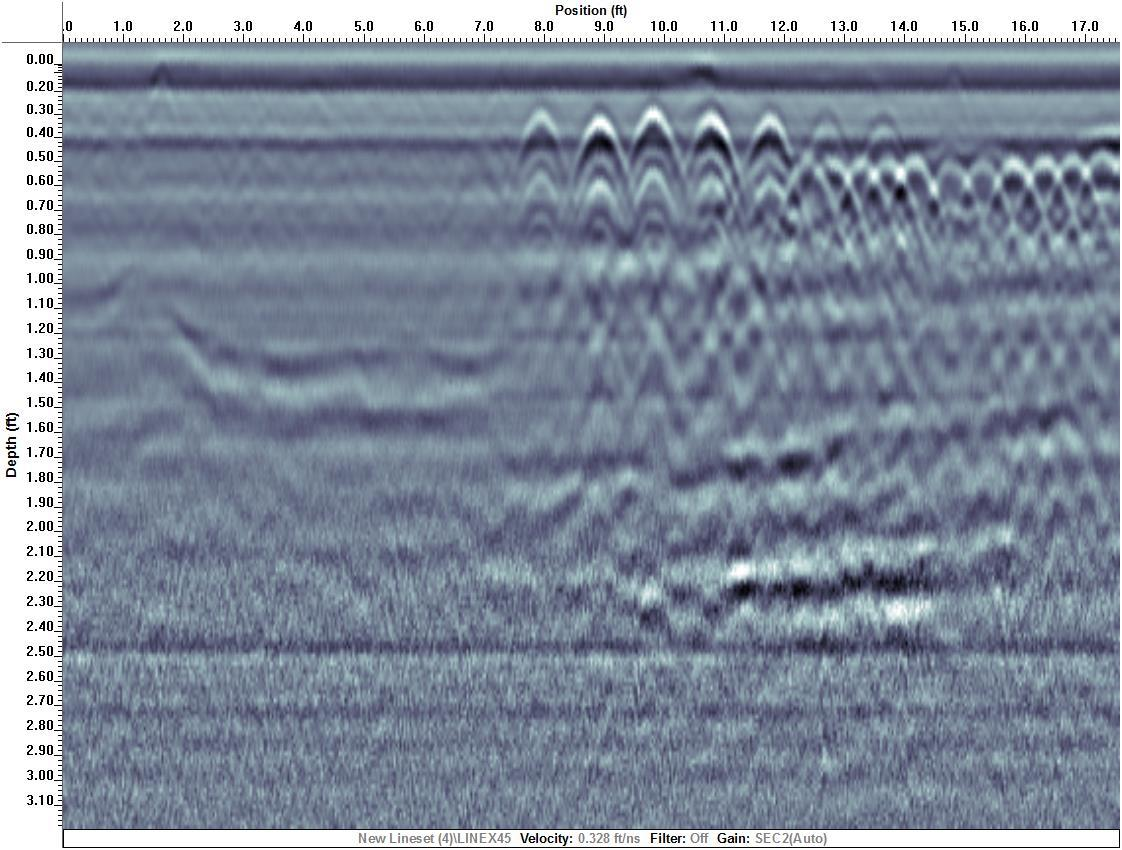hyperbola: (560, 101, 638, 226), (615, 96, 691, 214), (730, 109, 806, 214), (683, 105, 746, 216)
